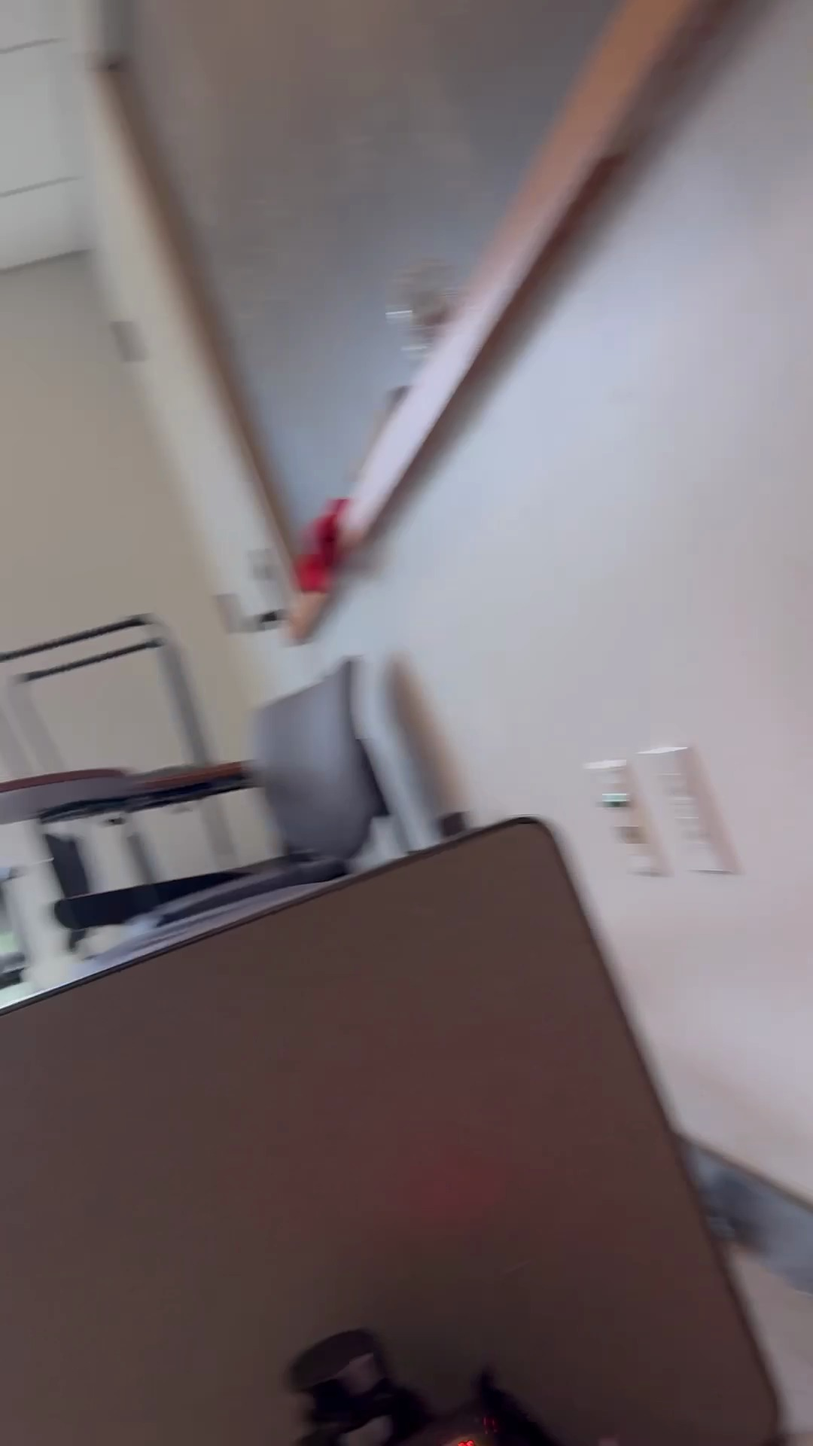racecar: (0, 628, 481, 1020), (268, 1319, 630, 1446)
